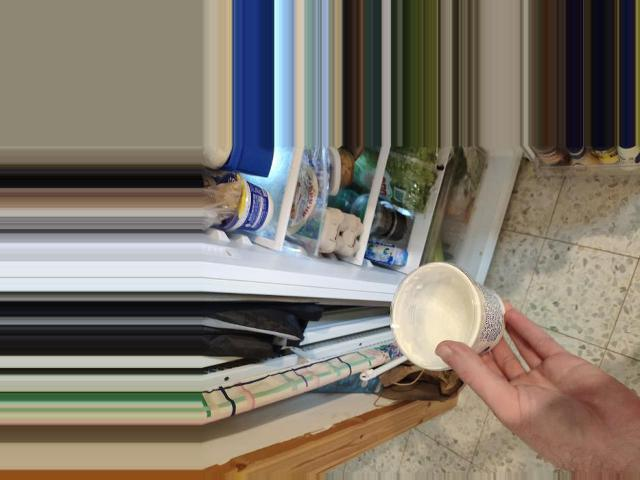cotage: (391, 277, 512, 375)
